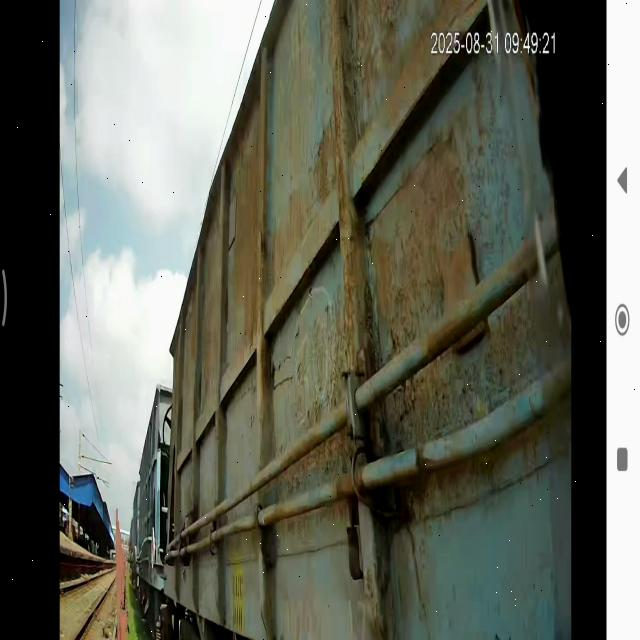coach: (161, 0, 587, 640)
